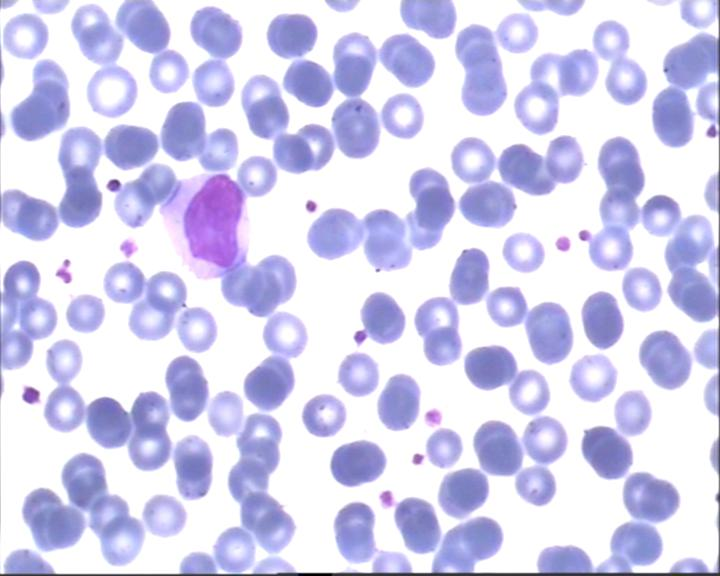mono: (159, 170, 255, 277)
